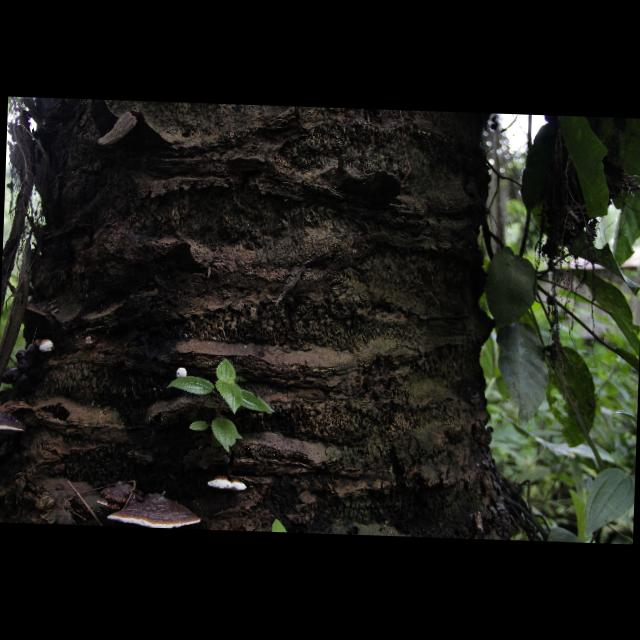ganoderma: (107, 493, 202, 531), (1, 337, 37, 397), (97, 481, 146, 512), (207, 476, 249, 493), (1, 413, 27, 437)
primordium: (38, 339, 56, 355), (176, 367, 188, 379)
